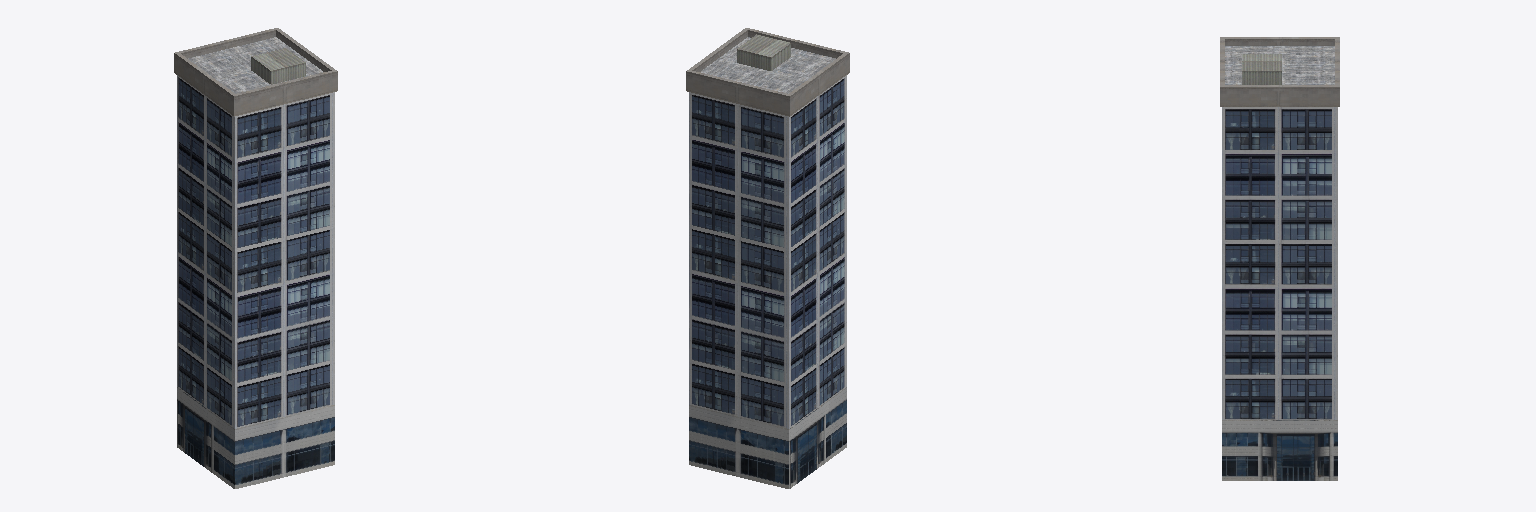
The picture shows the model from 3 angles: view 1: azimuth 30°, elevation 25°; view 2: azimuth 150°, elevation 25°; view 3: azimuth 270°, elevation 25°; orthographic projection.
Parts seen in each view (by area): view 1: building_15; view 2: building_15; view 3: building_15.
Boxes of the visible parts, x1,y1,x2,y2 form: building_15: [174, 28, 337, 488]; building_15: [686, 28, 849, 488]; building_15: [1220, 37, 1339, 480].
Size of the model in its own units: 52.9 by 195 by 52.88.
Materials: 1 (1 with a texture image).